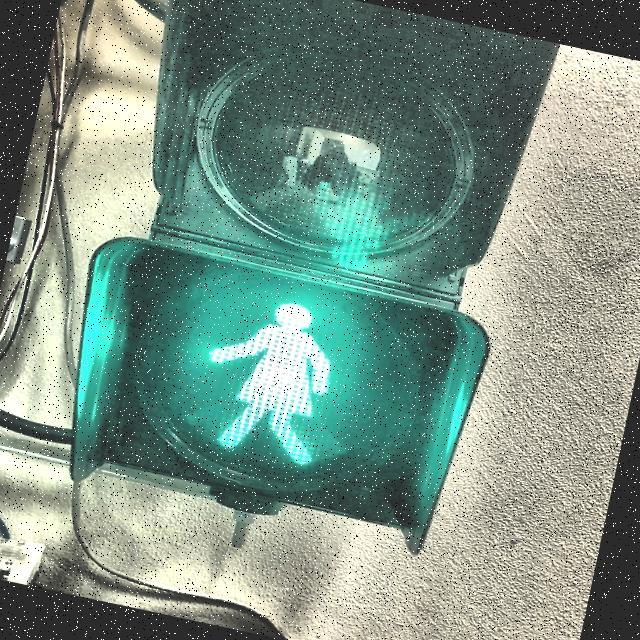green_light: (183, 282, 349, 472)
